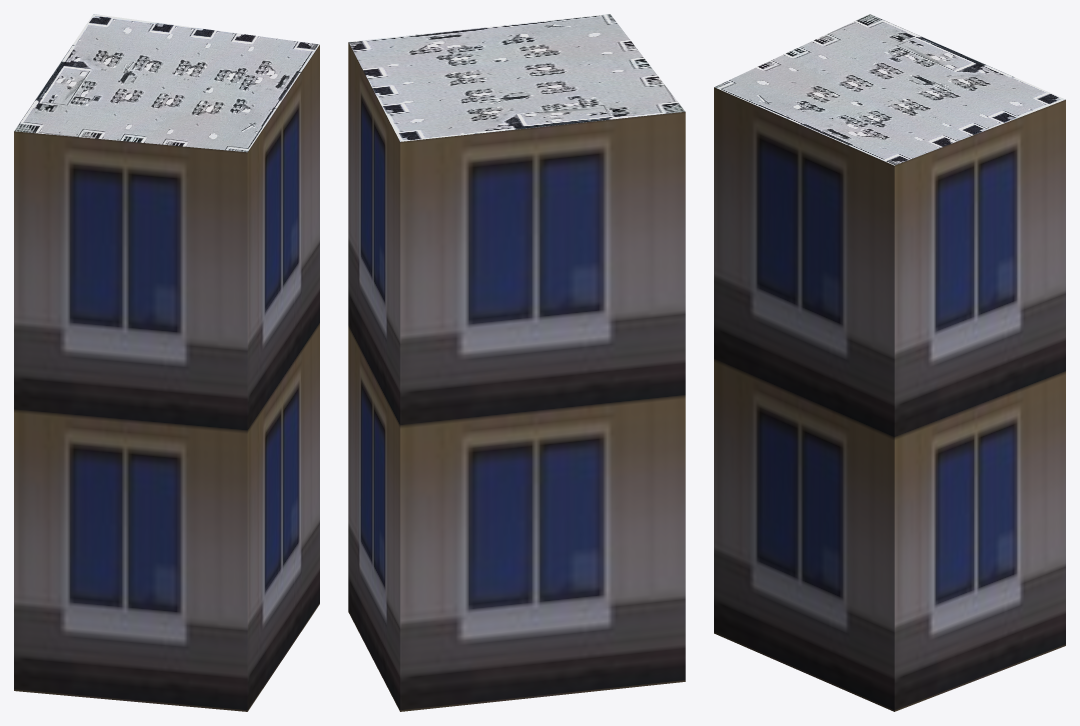
The model's file is ResTex__1566.fbx.
3 views of the same model, side by side, from view 1: azimuth 30°, elevation 25°; view 2: azimuth 150°, elevation 25°; view 3: azimuth 270°, elevation 25° (orthographic). The views are drawn at different scales.
Visible parts, largest first — view 1: CityEngineMaterial_5_m, CityEngineMaterial_8_m; view 2: CityEngineMaterial_5_m, CityEngineMaterial_8_m; view 3: CityEngineMaterial_5_m, CityEngineMaterial_8_m.
Part boxes in pixels (bbox=[...]): CityEngineMaterial_5_m: bbox=[14, 45, 319, 711]; CityEngineMaterial_8_m: bbox=[14, 14, 319, 152]; CityEngineMaterial_5_m: bbox=[348, 42, 685, 711]; CityEngineMaterial_8_m: bbox=[348, 14, 684, 141]; CityEngineMaterial_5_m: bbox=[714, 87, 1065, 711]; CityEngineMaterial_8_m: bbox=[714, 14, 1065, 165].
Bounding box in the file's own units: 3.57 × 6 × 3.5.
2 materials, 2 textured.
